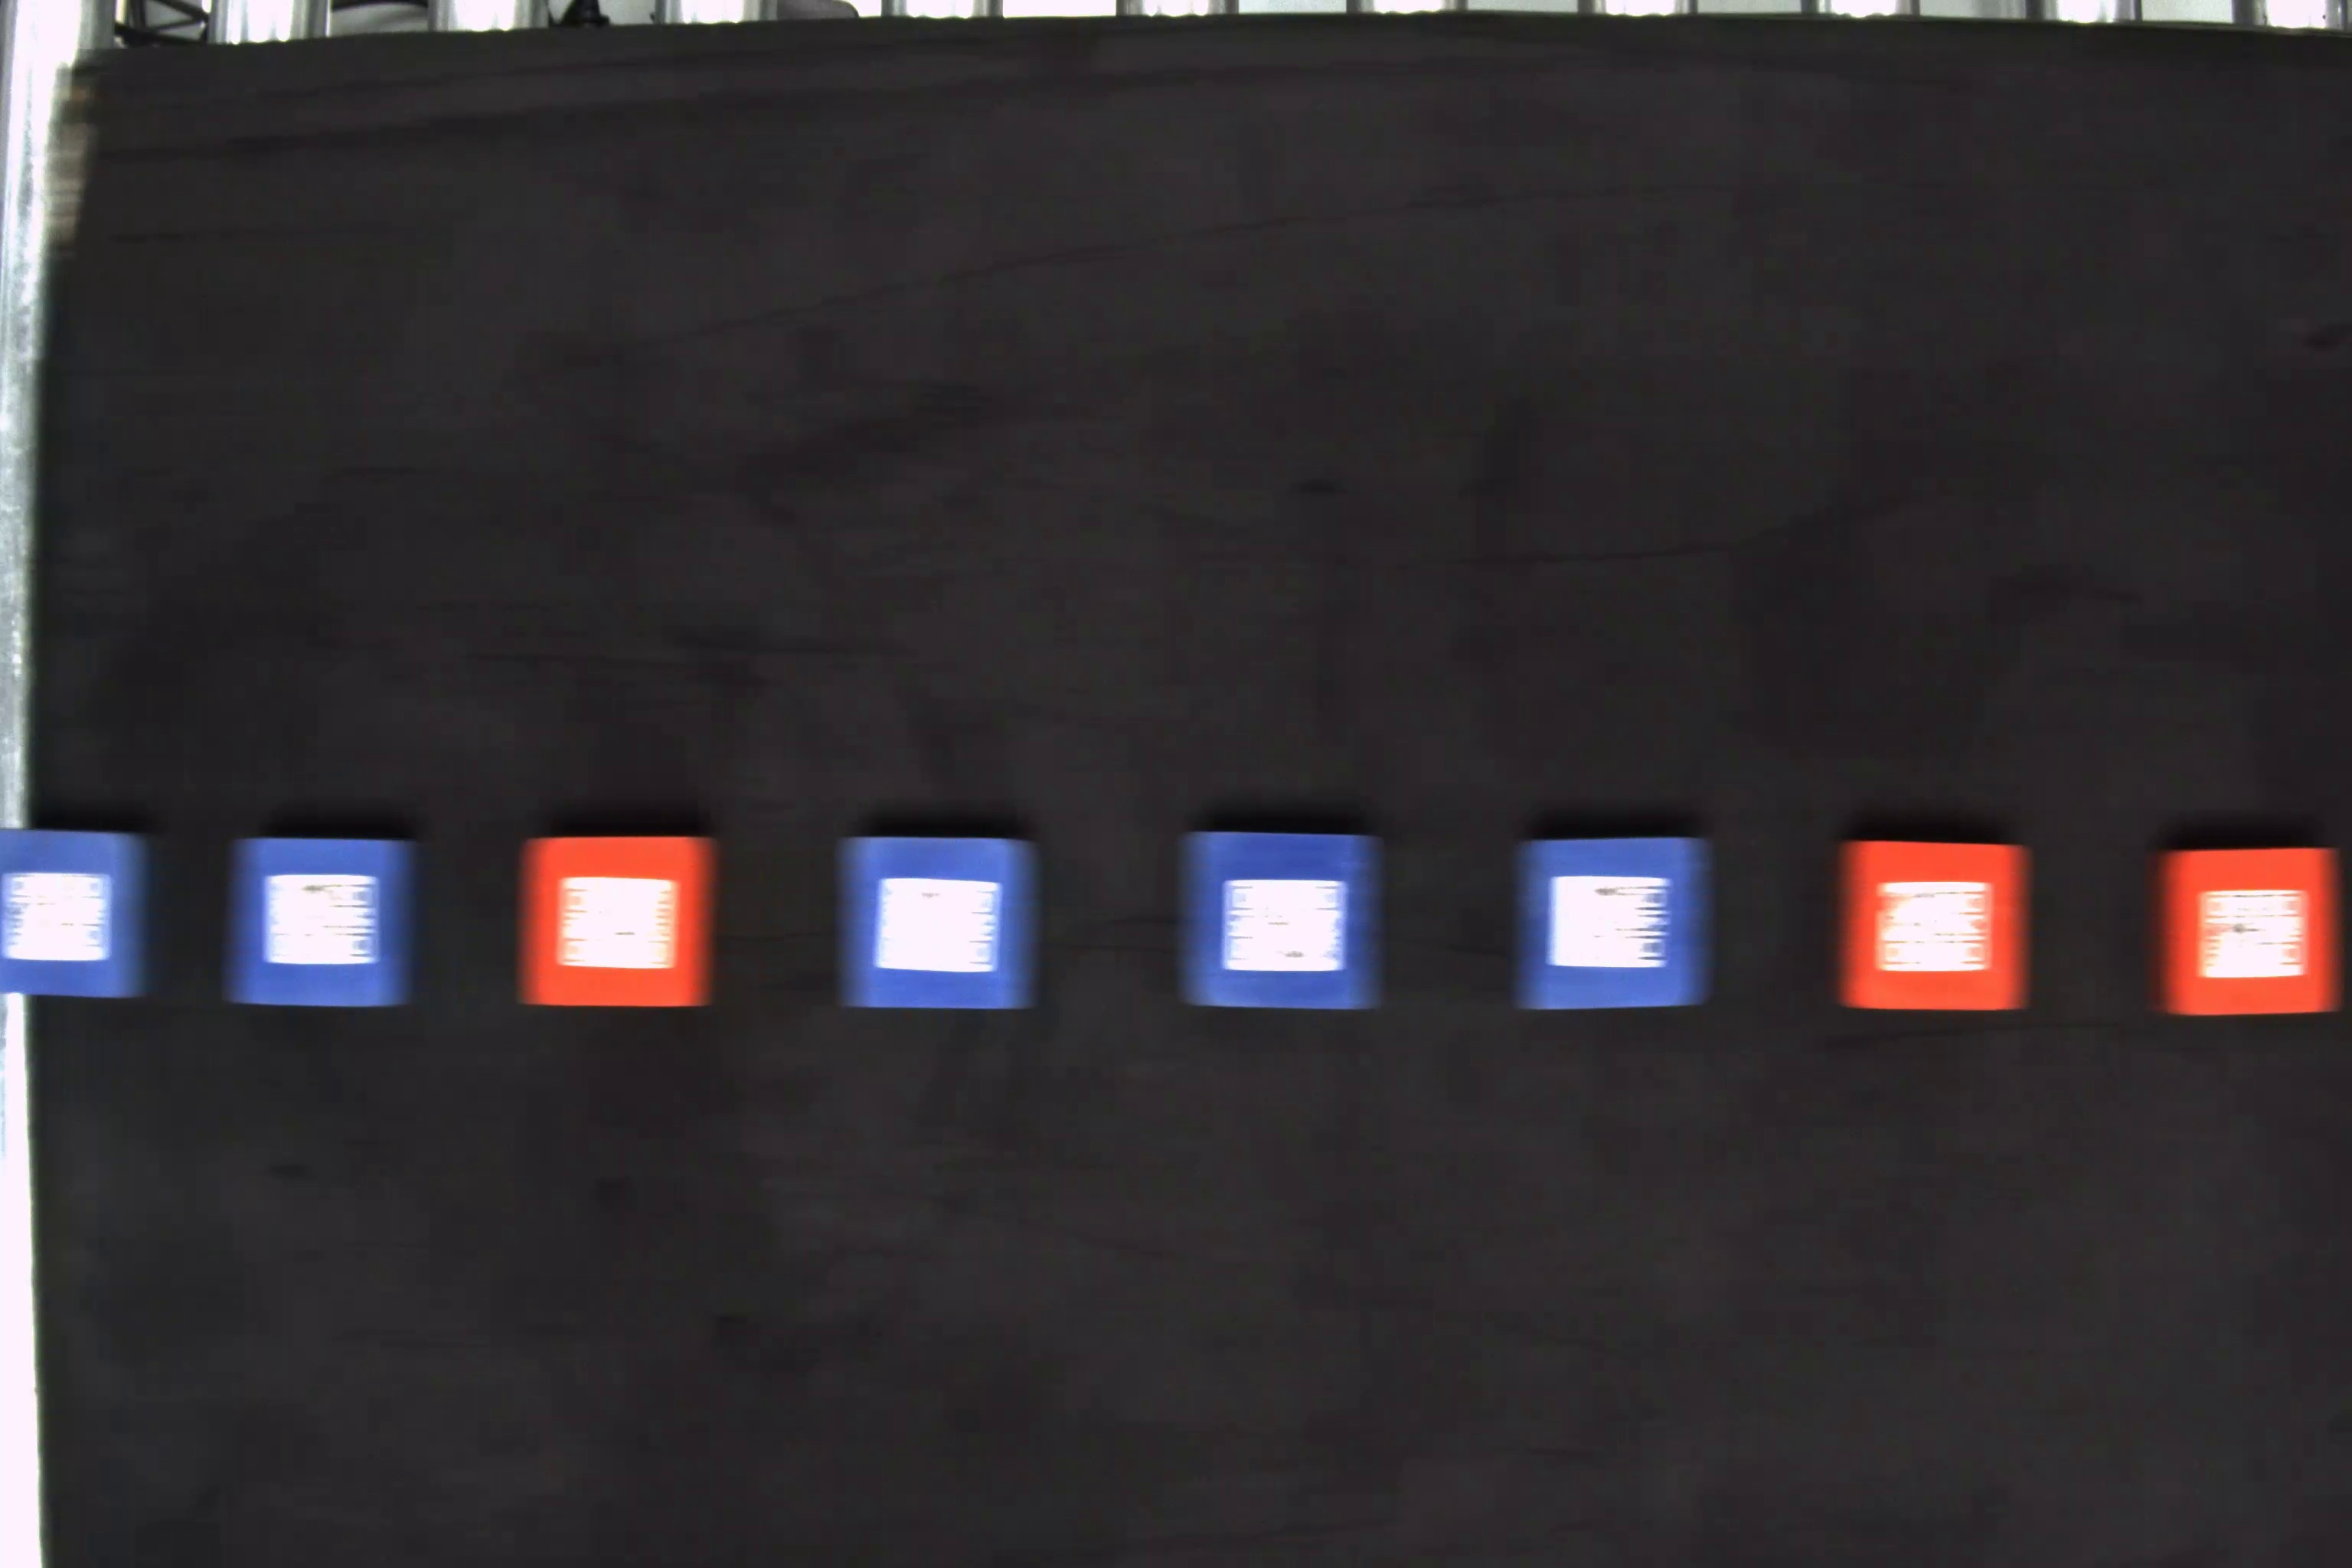wood: (1174, 822, 1389, 1011), (835, 835, 1048, 1018), (516, 828, 717, 1013), (1834, 835, 2033, 1018), (1507, 840, 1717, 1008), (227, 831, 416, 1011), (2154, 843, 2340, 1013), (3, 826, 149, 1001)
